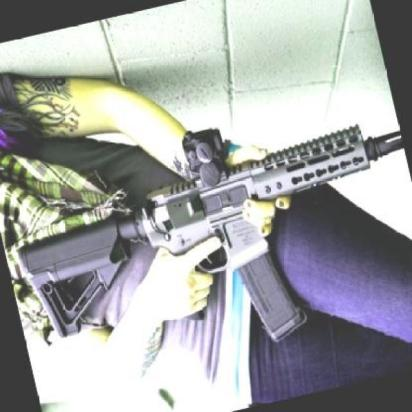Gun: (15, 109, 412, 370)
